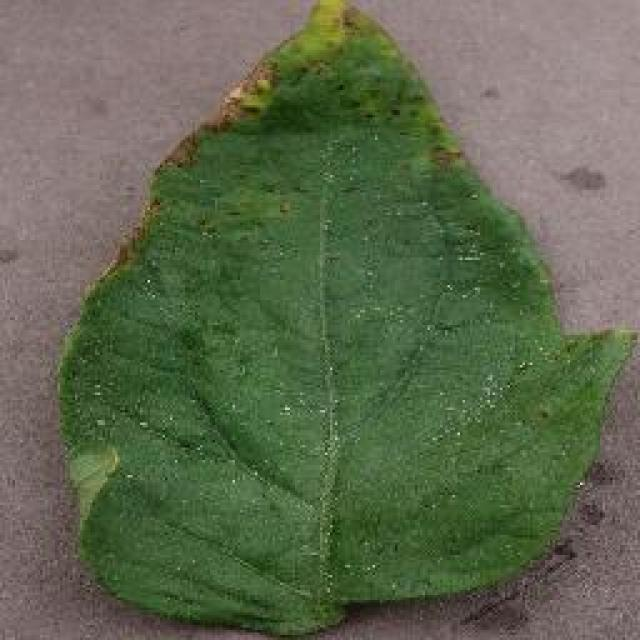Tomato bacterial spot leaf: (54, 0, 638, 640)
